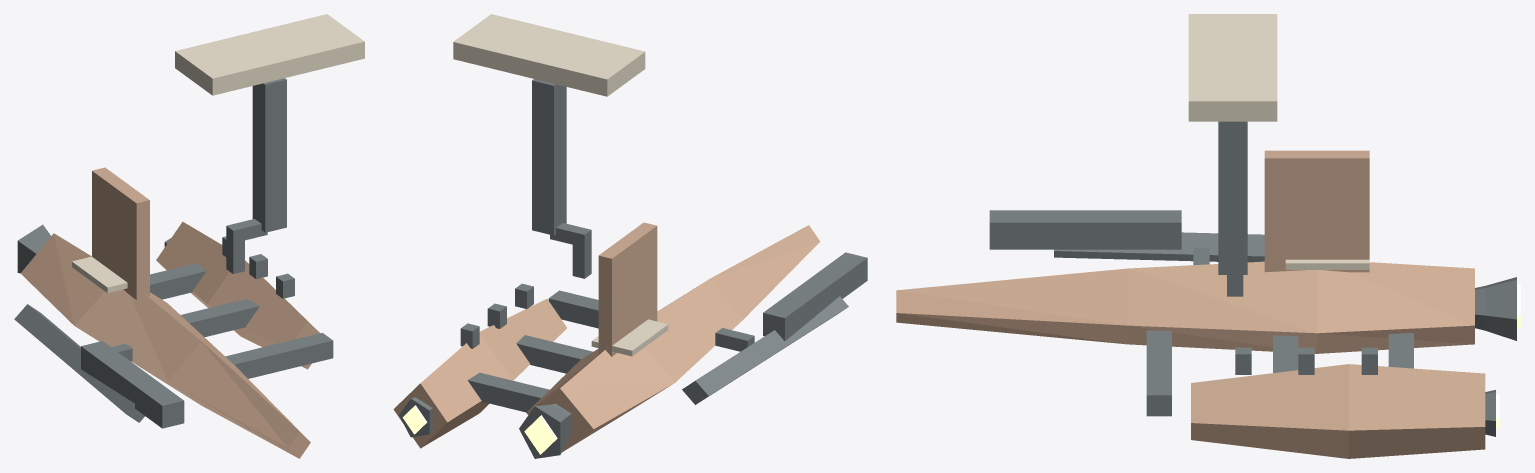
The picture shows the model from 3 angles, left to right: view 1: azimuth 30°, elevation 25°; view 2: azimuth 150°, elevation 25°; view 3: azimuth 270°, elevation 25°; orthographic projection. The views are drawn at different scales.
Bounding box in the file's own units: 10.89 × 11.64 × 16.9.
